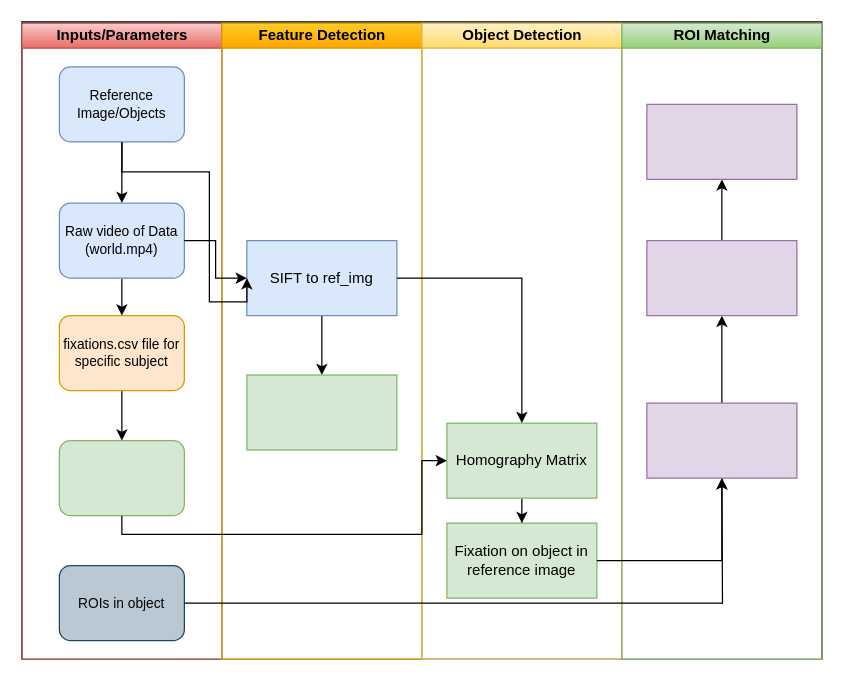
Image size: 844x681. Some labels were removed from this diagram. The shapes that lost their labels are listed below. From the top down, each one's box as (x1, y1, x2, y2) in pixels, then its label:
(646, 103, 797, 179): Visualize Statistics
(646, 239, 797, 316): Calculate ROI Statistics
(246, 374, 397, 450): Index object
(646, 402, 797, 478): match fixation to ROI
(58, 439, 184, 516): Individual fixation coordinate
